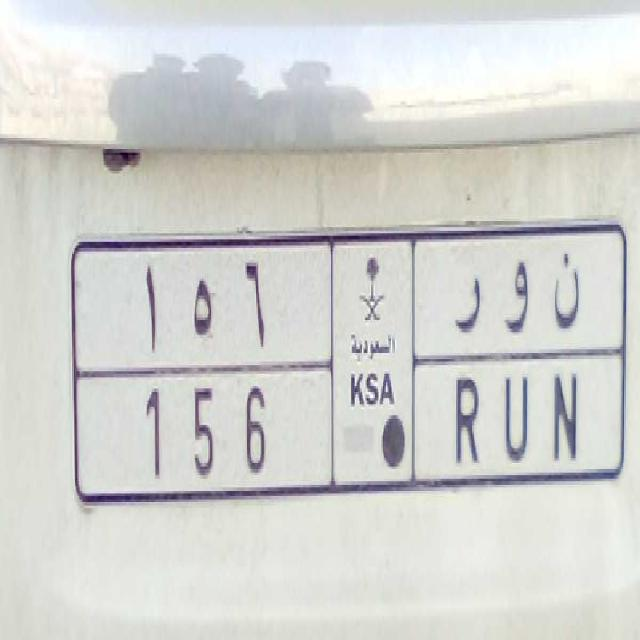license_plate: (92, 356, 602, 491)
